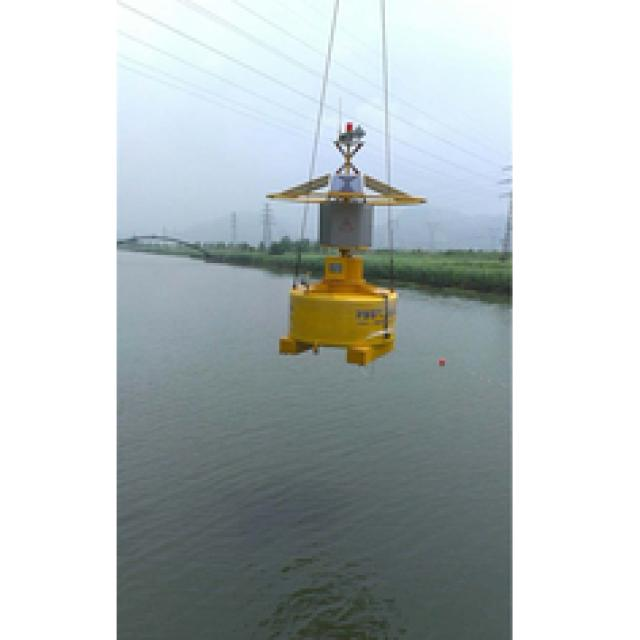buoy: (257, 116, 436, 366)
